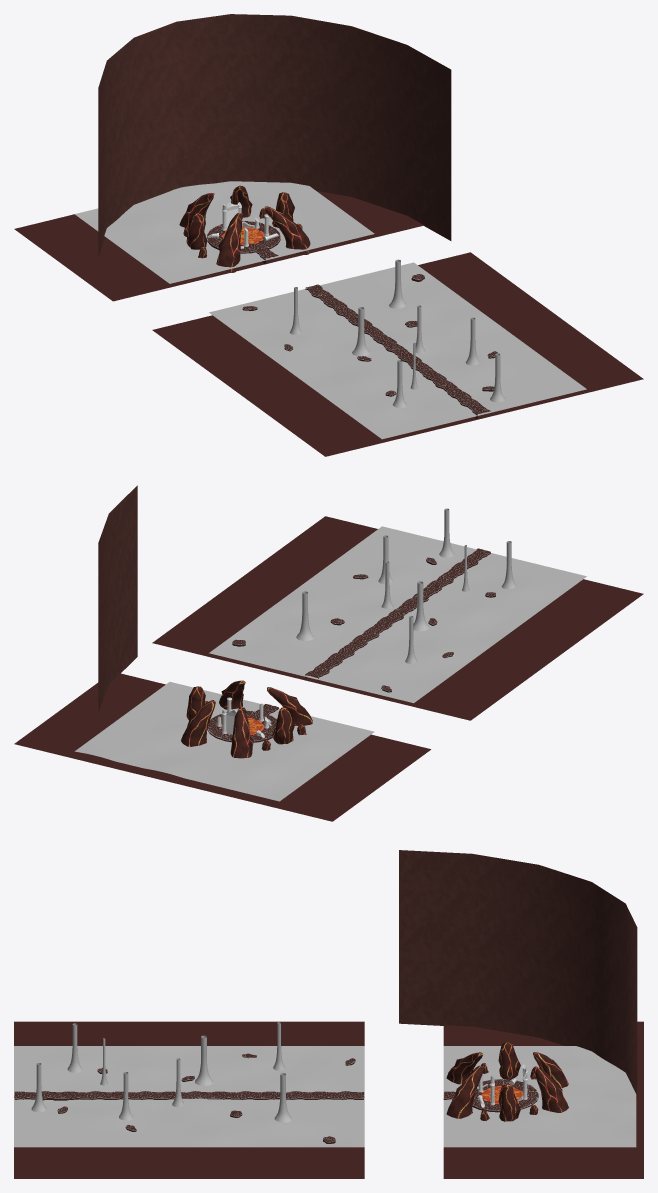
The model's file is angmap.fbx.
3 views of the same model, one above another, from view 1: azimuth 30°, elevation 25°; view 2: azimuth 150°, elevation 25°; view 3: azimuth 270°, elevation 25° (orthographic).
Visible parts, largest first — view 1: angdome, angmap; view 2: angmap, angdome; view 3: angdome, angmap.
Part boxes in pixels (<box>): angdome: <box>14,14,451,301</box>; angmap: <box>152,252,643,456</box>; angmap: <box>152,508,643,720</box>; angdome: <box>14,485,430,821</box>; angdome: <box>399,850,643,1178</box>; angmap: <box>14,1021,364,1178</box>.
Bounding box in the file's own units: 14855 × 7703 × 25145.
Materials: 6 (3 with a texture image).
